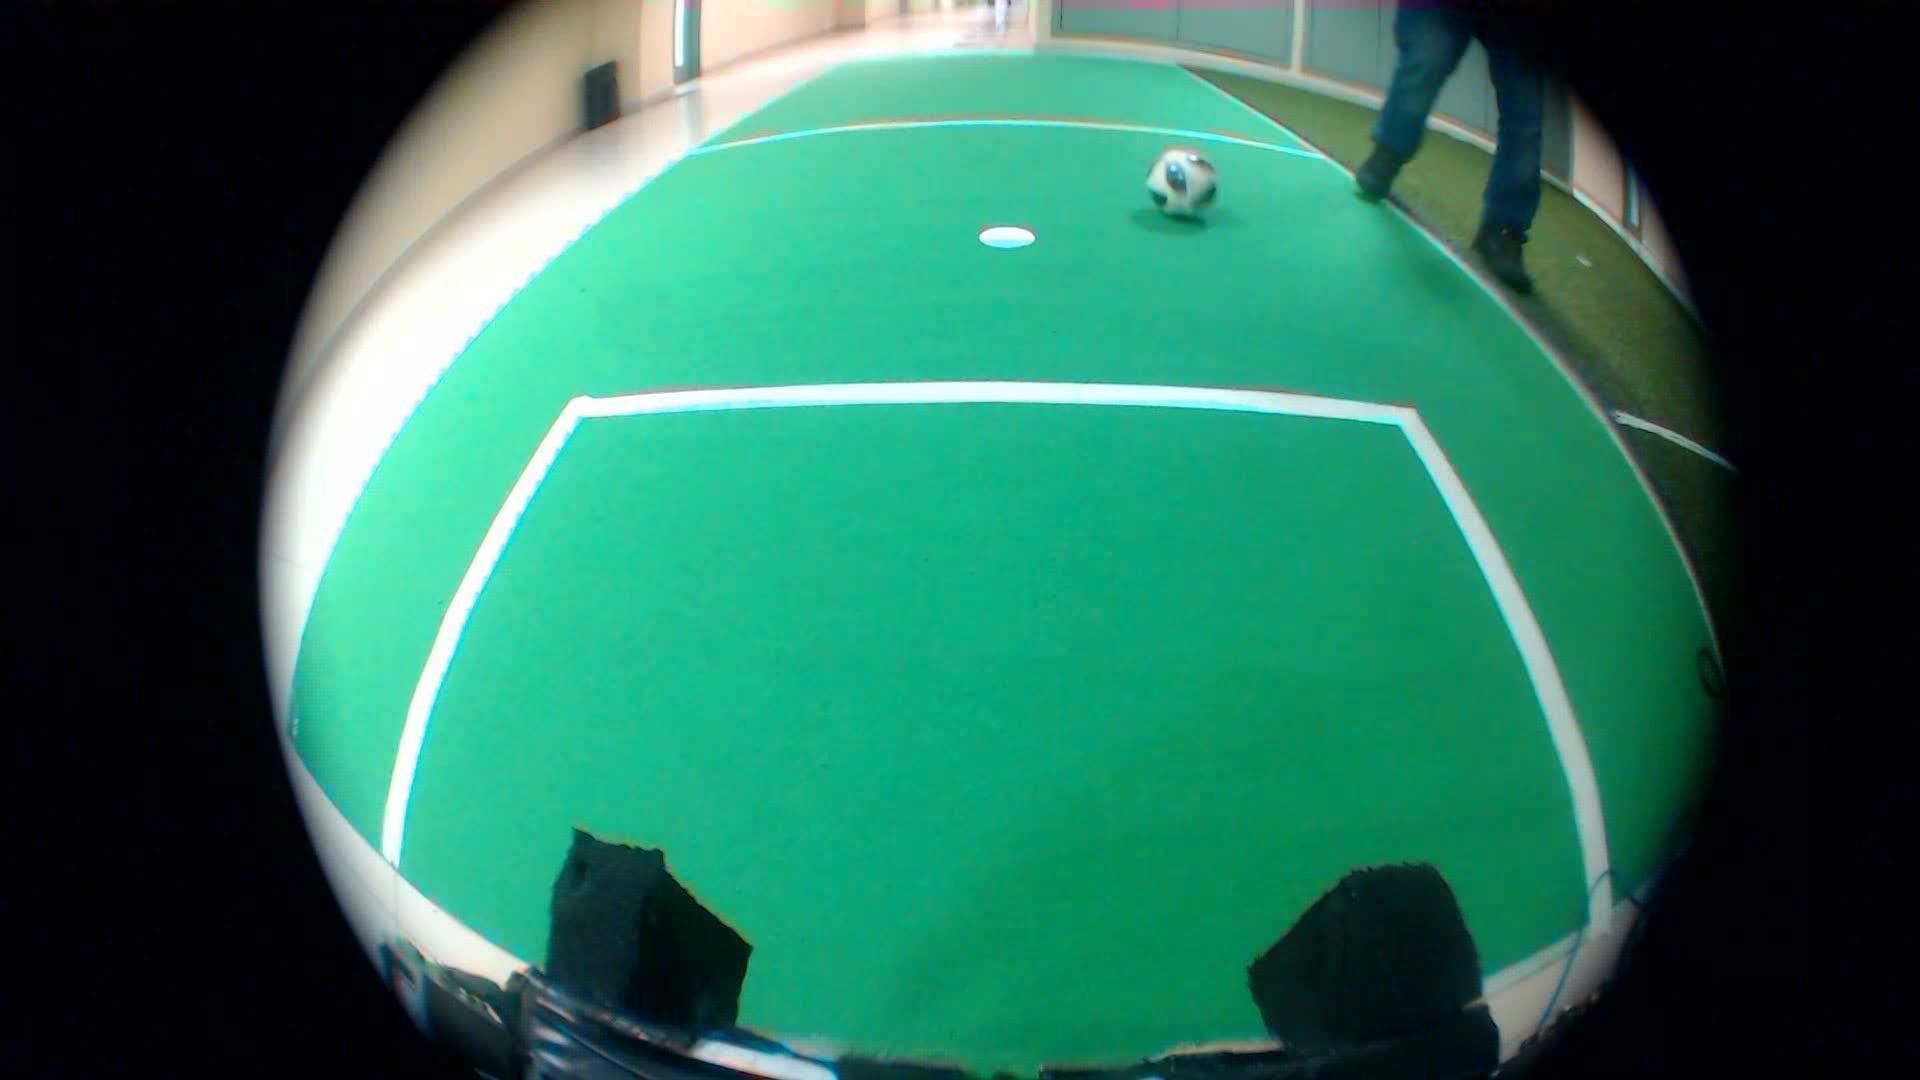ball: (1141, 135, 1232, 231)
